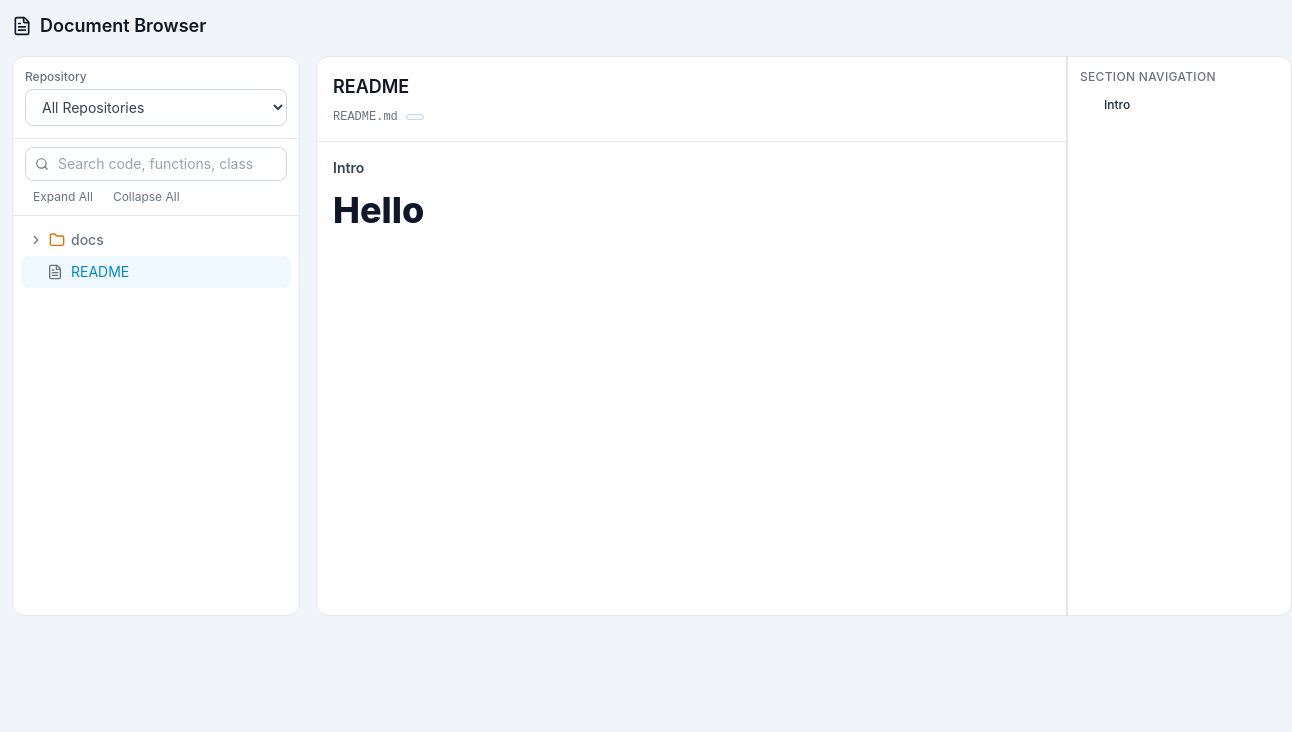
Test case: Documents › search clear button has accessible name
The image size is (1292, 732).
Type "test" into the field with placeholder "Search code, functions, classes..." at (156,164), box x1=25 y1=147 x2=287 y2=181
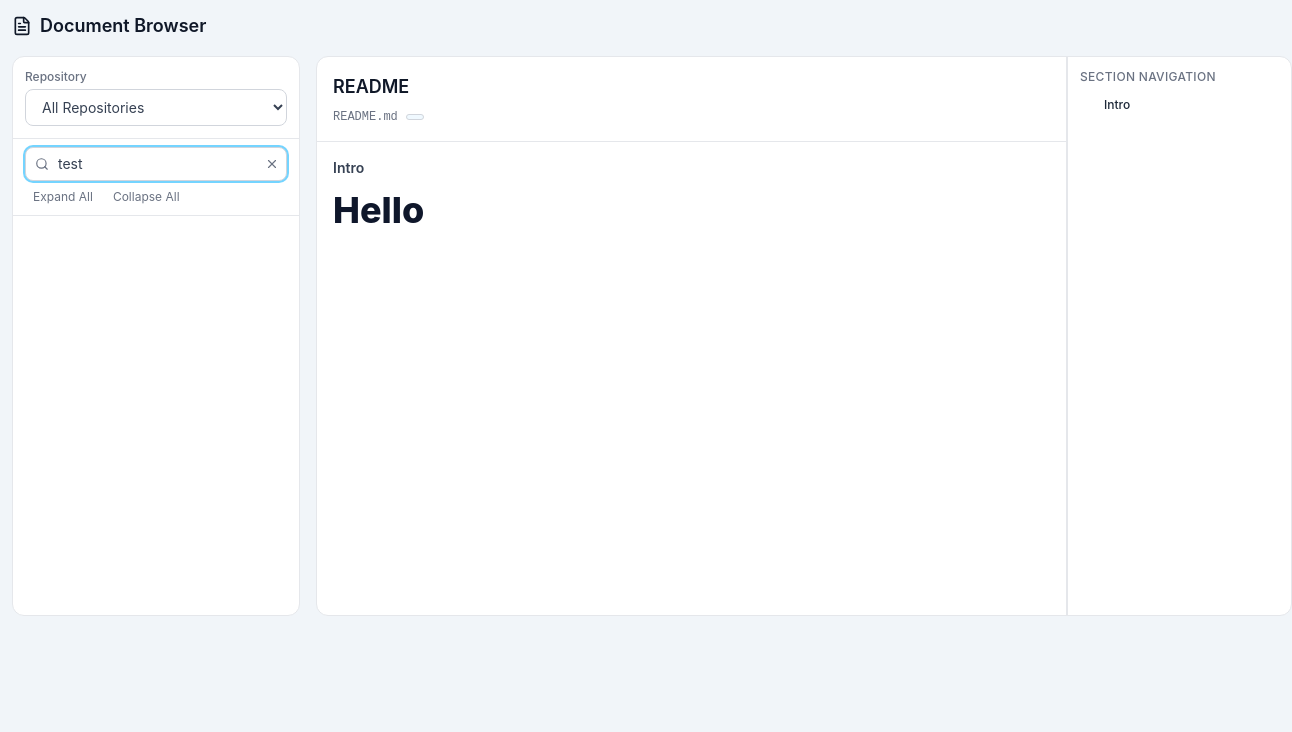
Check: the button named "clear search" is shown, box x1=265 y1=157 x2=279 y2=171
